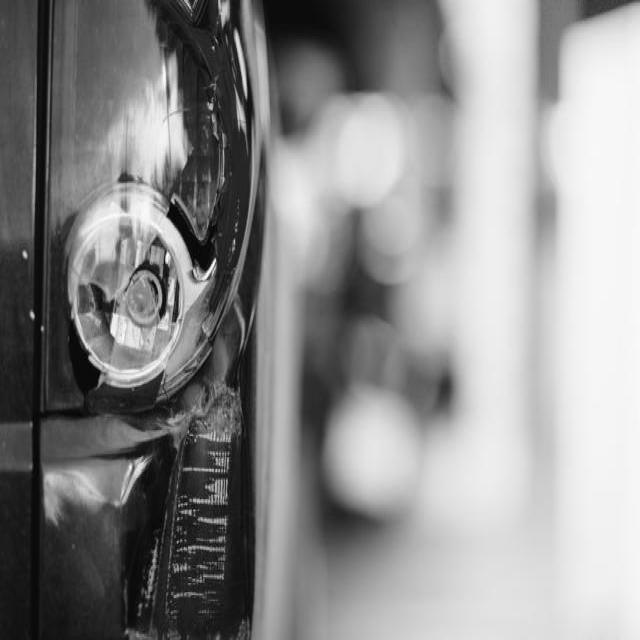Bumper: (36, 398, 267, 640)
Light: (43, 0, 262, 397)
